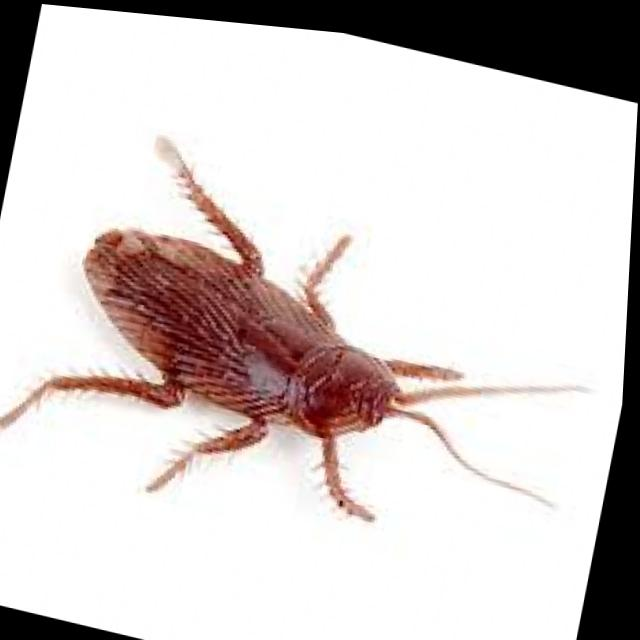Cockroach: (0, 90, 586, 584)
